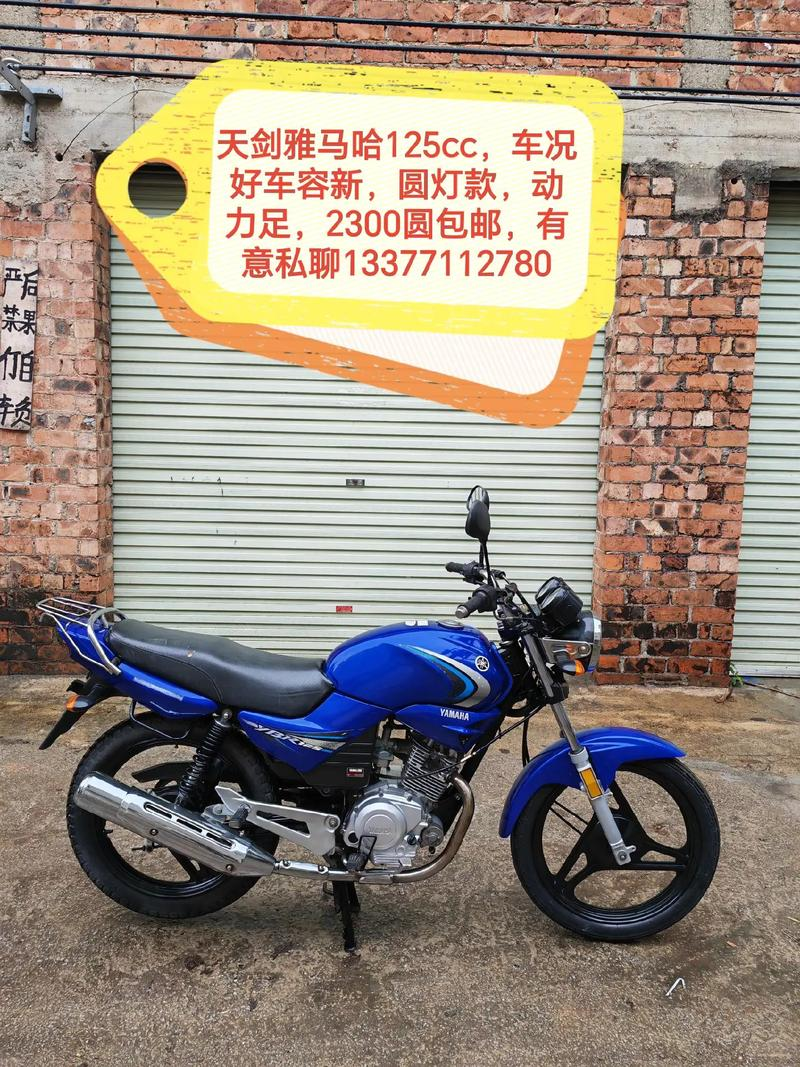摩托车: (26, 483, 734, 962)
